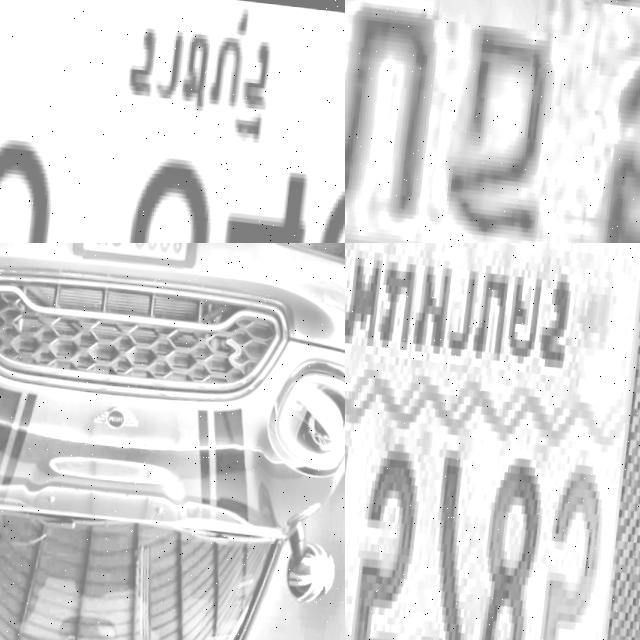license-plate: (345, 243, 640, 640), (0, 0, 345, 243), (345, 0, 640, 243), (75, 243, 203, 269)
